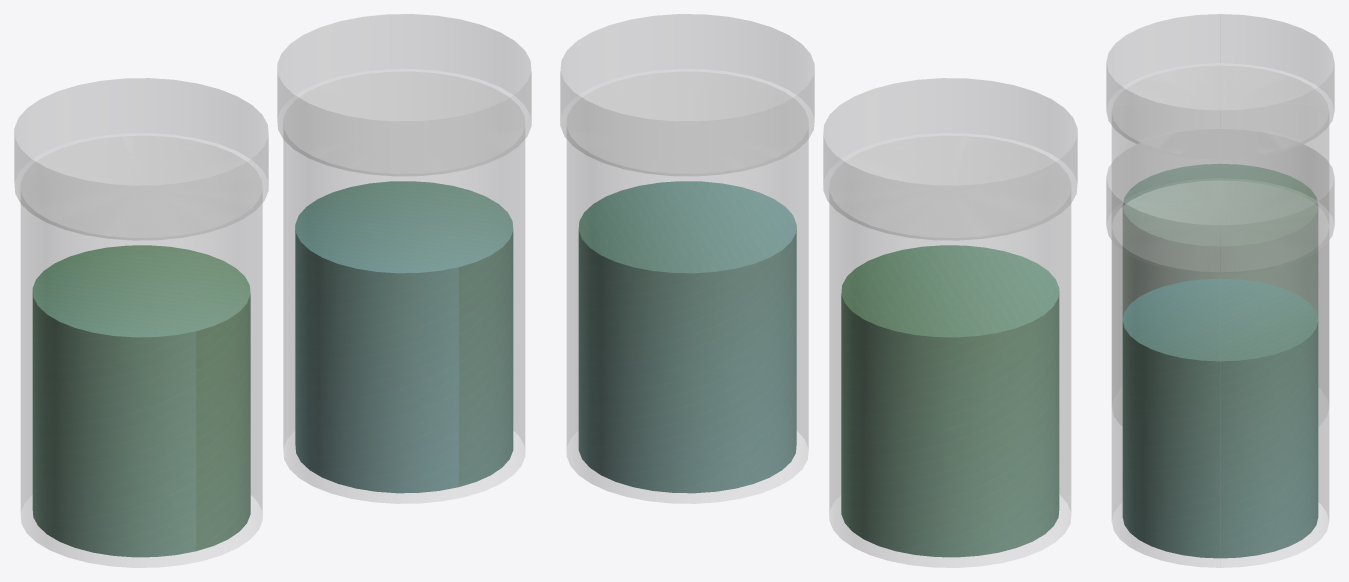
File: state-default.glb
3 views of the same model, side by side, from view 1: azimuth 30°, elevation 25°; view 2: azimuth 150°, elevation 25°; view 3: azimuth 270°, elevation 25° (orthographic). The views are drawn at different scales.
Visible parts, largest first — view 1: assetPrim:0695d8eaecdef-19c73dd202d:pepper-glass, assetPrim:0695d8eaecdef-19c73dd202d:salt-glass, assetPrim:0695d8eaecdef-19c73dd202d:salt-fill, assetPrim:0695d8eaecdef-19c73dd202d:pepper-fill, assetPrim:0695d8eaecdef-19c73dd202d:salt-cap, assetPrim:0695d8eaecdef-19c73dd202d:pepper-cap; view 2: assetPrim:0695d8eaecdef-19c73dd202d:pepper-glass, assetPrim:0695d8eaecdef-19c73dd202d:salt-glass, assetPrim:0695d8eaecdef-19c73dd202d:salt-fill, assetPrim:0695d8eaecdef-19c73dd202d:pepper-fill, assetPrim:0695d8eaecdef-19c73dd202d:salt-cap, assetPrim:0695d8eaecdef-19c73dd202d:pepper-cap; view 3: assetPrim:0695d8eaecdef-19c73dd202d:pepper-glass, assetPrim:0695d8eaecdef-19c73dd202d:pepper-fill, assetPrim:0695d8eaecdef-19c73dd202d:pepper-cap, assetPrim:0695d8eaecdef-19c73dd202d:salt-cap, assetPrim:0695d8eaecdef-19c73dd202d:salt-glass, assetPrim:0695d8eaecdef-19c73dd202d:salt-fill.
Part boxes in pixels (box(x1,y1,x2,y2)): assetPrim:0695d8eaecdef-19c73dd202d:pepper-glass: box(283, 72, 525, 503); assetPrim:0695d8eaecdef-19c73dd202d:salt-glass: box(20, 136, 262, 567); assetPrim:0695d8eaecdef-19c73dd202d:salt-fill: box(32, 245, 250, 557); assetPrim:0695d8eaecdef-19c73dd202d:pepper-fill: box(295, 181, 513, 493); assetPrim:0695d8eaecdef-19c73dd202d:salt-cap: box(14, 78, 268, 240); assetPrim:0695d8eaecdef-19c73dd202d:pepper-cap: box(277, 14, 531, 175); assetPrim:0695d8eaecdef-19c73dd202d:pepper-glass: box(566, 72, 808, 503); assetPrim:0695d8eaecdef-19c73dd202d:salt-glass: box(829, 136, 1071, 567); assetPrim:0695d8eaecdef-19c73dd202d:salt-fill: box(841, 245, 1059, 557); assetPrim:0695d8eaecdef-19c73dd202d:pepper-fill: box(578, 181, 796, 493); assetPrim:0695d8eaecdef-19c73dd202d:salt-cap: box(823, 78, 1077, 240); assetPrim:0695d8eaecdef-19c73dd202d:pepper-cap: box(560, 14, 814, 175); assetPrim:0695d8eaecdef-19c73dd202d:pepper-glass: box(1111, 180, 1329, 567); assetPrim:0695d8eaecdef-19c73dd202d:pepper-fill: box(1122, 278, 1318, 558); assetPrim:0695d8eaecdef-19c73dd202d:pepper-cap: box(1106, 129, 1334, 274); assetPrim:0695d8eaecdef-19c73dd202d:salt-cap: box(1106, 14, 1334, 159); assetPrim:0695d8eaecdef-19c73dd202d:salt-glass: box(1111, 66, 1329, 425); assetPrim:0695d8eaecdef-19c73dd202d:salt-fill: box(1123, 164, 1317, 316).
Size of the model in its own units: 0.092 by 0.07 by 0.042.
6 materials, 2 textured.
